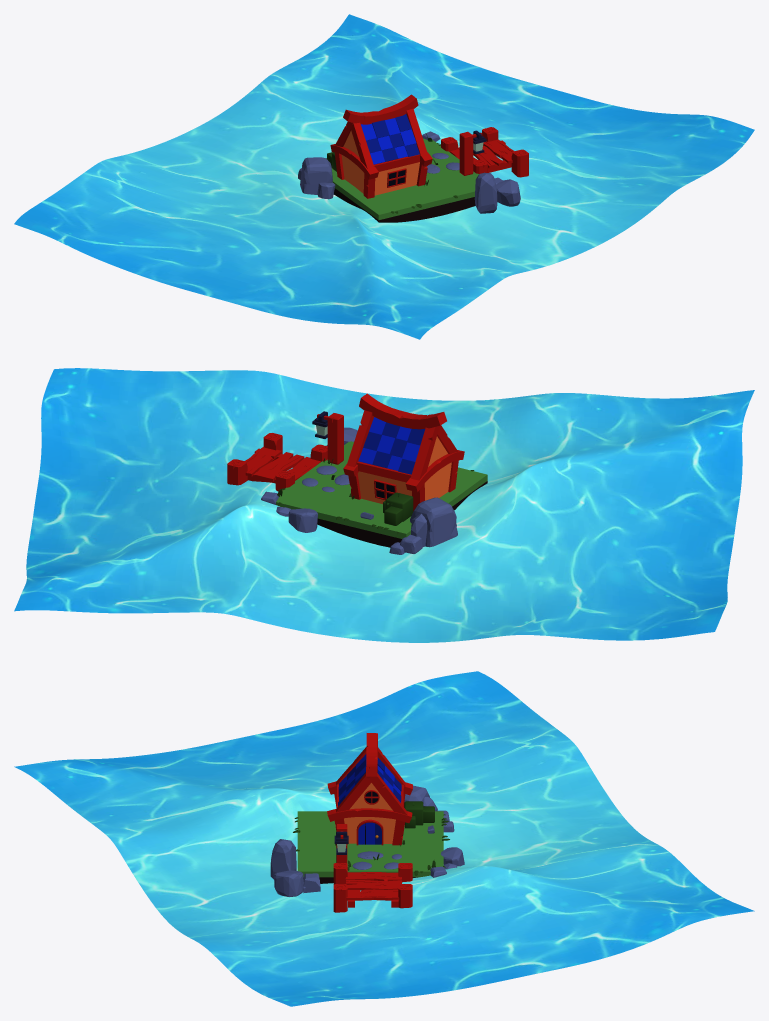
The model's file is casa.obj.
3 views of the same model, one above another, from view 1: azimuth 30°, elevation 25°; view 2: azimuth 150°, elevation 25°; view 3: azimuth 270°, elevation 25° (orthographic). The views are drawn at different scales.
Visible parts, largest first — view 1: Sea_Plano.002, Base_Cubo.044, PAREDES_Cubo, Cubo.056_Cubo.071, Cubo.004, Cubo.103_Cubo.118, Cubo.046_Cubo.056, Cubo.102_Cubo.117; view 2: Sea_Plano.002, Base_Cubo.044, PAREDES_Cubo, Cubo.056_Cubo.071, Cubo.004, Cubo.046_Cubo.056, Cubo.006, Cubo.041_Cubo.051, Cubo.026_Cubo.028, Cubo.005, Cubo.055_Cubo.070, Cubo.038_Cubo.047 (+3 smaller); view 3: Sea_Plano.002, Base_Cubo.044, PAREDES_Cubo, Cubo.103_Cubo.118, Cubo.001, Cubo.102_Cubo.117, puerta_Cilindro, Cubo.038_Cubo.047.
Part boxes in pixels (box(x1,y1,x2,y2)): Sea_Plano.002: box(14, 14, 754, 339); Base_Cubo.044: box(331, 138, 478, 222); PAREDES_Cubo: box(341, 130, 419, 195); Cubo.056_Cubo.071: box(300, 157, 333, 194); Cubo.004: box(343, 94, 418, 124); Cubo.103_Cubo.118: box(474, 172, 497, 213); Cubo.046_Cubo.056: box(459, 131, 473, 175); Cubo.102_Cubo.117: box(496, 179, 520, 206); Sea_Plano.002: box(14, 368, 754, 642); Base_Cubo.044: box(276, 441, 487, 547); PAREDES_Cubo: box(357, 436, 451, 503); Cubo.056_Cubo.071: box(410, 497, 457, 547); Cubo.004: box(359, 393, 446, 429); Cubo.046_Cubo.056: box(327, 413, 343, 464); Cubo.006: box(410, 426, 439, 480); Cubo.041_Cubo.051: box(255, 452, 304, 481); Cubo.026_Cubo.028: box(405, 450, 464, 492); Cubo.005: box(347, 410, 373, 466); Cubo.055_Cubo.070: box(288, 508, 317, 532); Cubo.038_Cubo.047: box(244, 446, 281, 476); Sea_Plano.002: box(14, 671, 754, 1006); Base_Cubo.044: box(297, 811, 443, 883); PAREDES_Cubo: box(344, 783, 395, 843); Cubo.103_Cubo.118: box(270, 839, 296, 879); Cubo.001: box(327, 808, 412, 823); Cubo.102_Cubo.117: box(274, 870, 303, 896); puerta_Cilindro: box(356, 819, 383, 845); Cubo.038_Cubo.047: box(346, 889, 399, 900).
Bounding box in the file's own units: 70.84 × 10.61 × 66.1.
13 materials, 1 textured.
